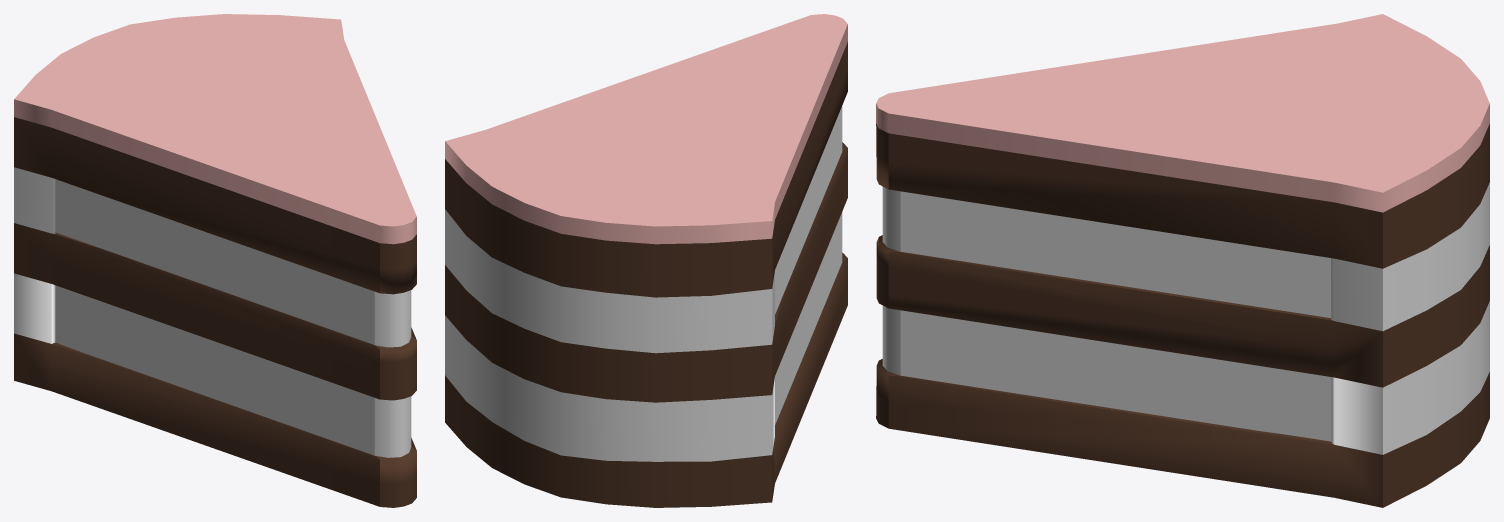
Rendered from slicecakeacetato.glb.
3 renders of one model, left to right at view 1: azimuth 30°, elevation 25°; view 2: azimuth 150°, elevation 25°; view 3: azimuth 270°, elevation 25°, orthographic. The views are drawn at different scales.
Parts seen in each view (by area): view 1: bolobase.004, bolobase.001, cobertura1.001, bolobase.002, bolobase.003; view 2: bolobase.004, bolobase.001, cobertura1.001, bolobase.002, bolobase.003; view 3: bolobase.004, bolobase.001, cobertura1.001, bolobase.002, bolobase.003.
Boxes of the visible parts, x1=… form: bolobase.004: x1=14, y1=14, x2=416, y2=244; bolobase.001: x1=14, y1=117, x2=416, y2=507; cobertura1.001: x1=14, y1=273, x2=411, y2=457; bolobase.002: x1=14, y1=167, x2=411, y2=347; bolobase.003: x1=14, y1=223, x2=416, y2=400; bolobase.004: x1=445, y1=14, x2=847, y2=244; bolobase.001: x1=445, y1=42, x2=847, y2=507; cobertura1.001: x1=445, y1=212, x2=842, y2=461; bolobase.002: x1=445, y1=106, x2=842, y2=353; bolobase.003: x1=445, y1=142, x2=847, y2=402; bolobase.004: x1=876, y1=14, x2=1489, y2=212; bolobase.001: x1=876, y1=123, x2=1489, y2=507; cobertura1.001: x1=882, y1=301, x2=1489, y2=454; bolobase.002: x1=882, y1=182, x2=1489, y2=331; bolobase.003: x1=876, y1=235, x2=1489, y2=387.
Bounding box in the file's own units: 0.8313 × 0.6837 × 1.21.
